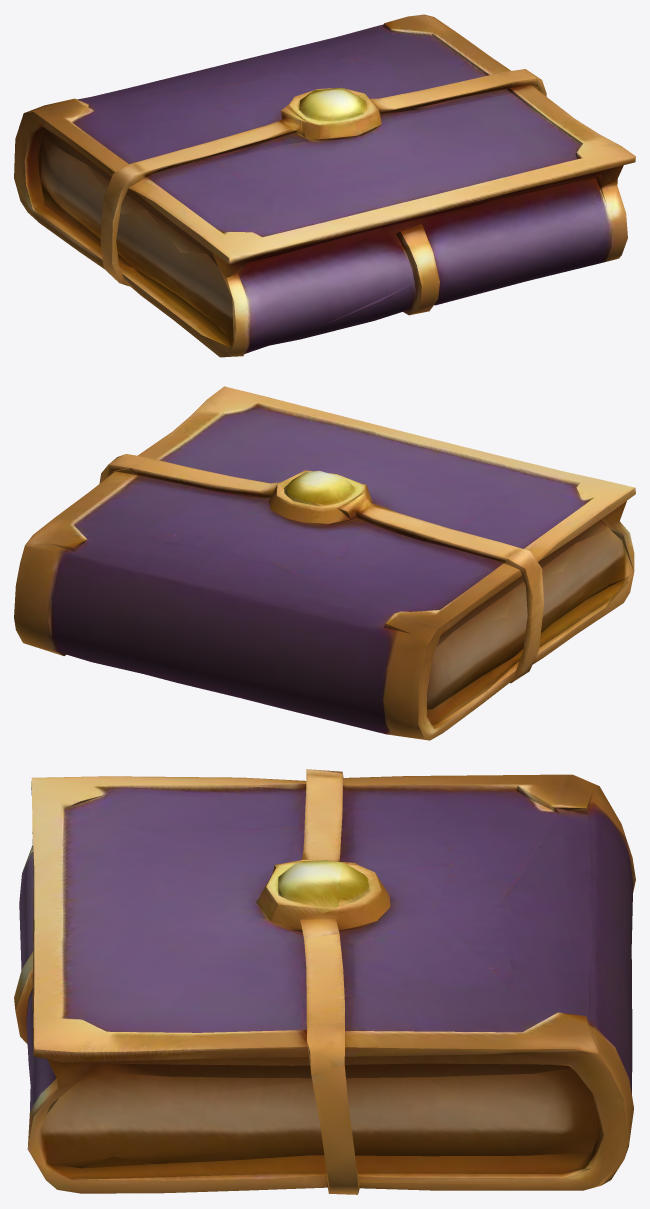
Rendered from spellBook.glb.
The picture shows the model from 3 angles, top to bottom: view 1: azimuth 30°, elevation 25°; view 2: azimuth 150°, elevation 25°; view 3: azimuth 270°, elevation 25°; orthographic projection. The views are drawn at different scales.
Parts seen in each view (by area): view 1: model; view 2: model; view 3: model.
Boxes of the visible parts, left/top/right/bottom form: model: left=14, top=14, right=635, bottom=357; model: left=14, top=386, right=635, bottom=740; model: left=14, top=769, right=635, bottom=1194.
Size of the model in its own units: 1.9 by 0.6179 by 1.71.
1 material, 1 textured.
